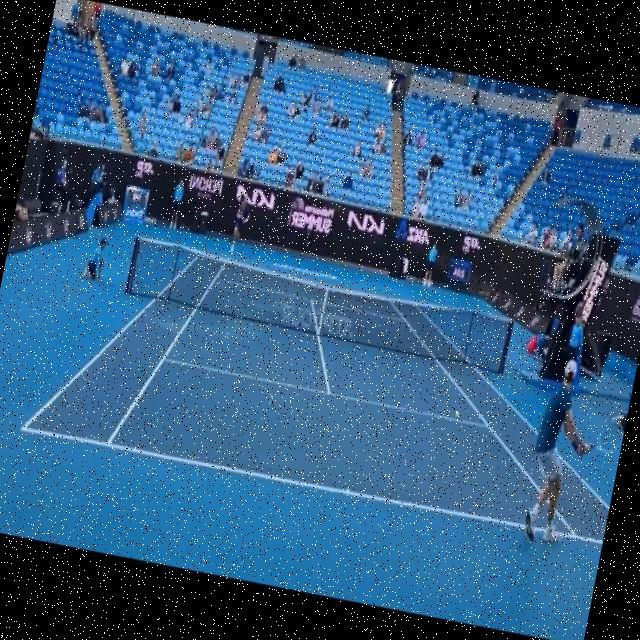court: (19, 227, 640, 544)
net: (120, 232, 518, 380)
player: (518, 355, 634, 552)
